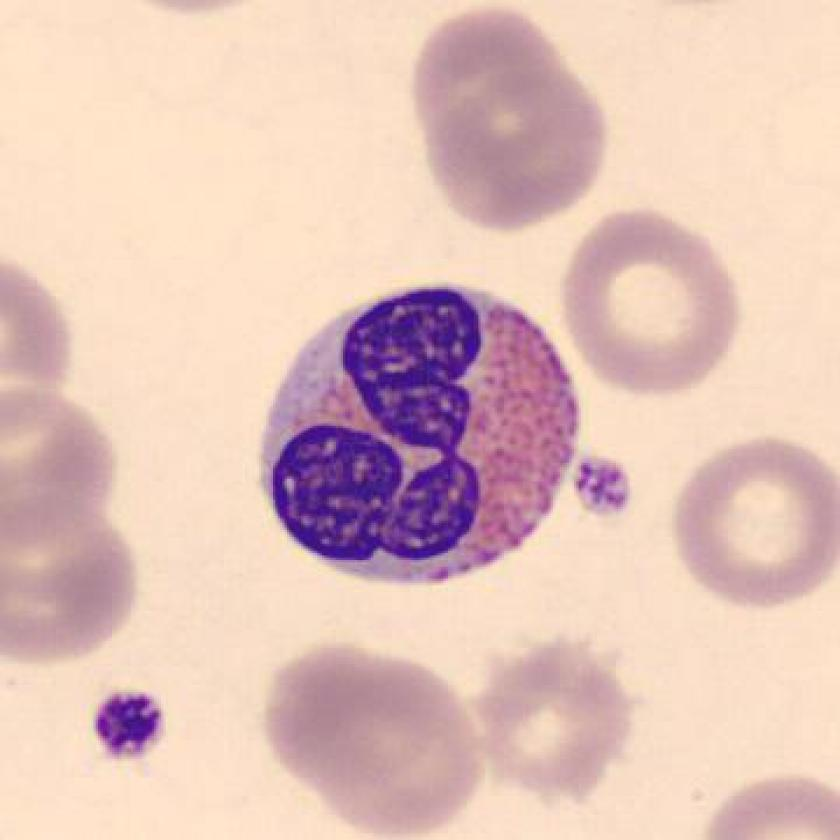eosinophil: (241, 265, 594, 605)
